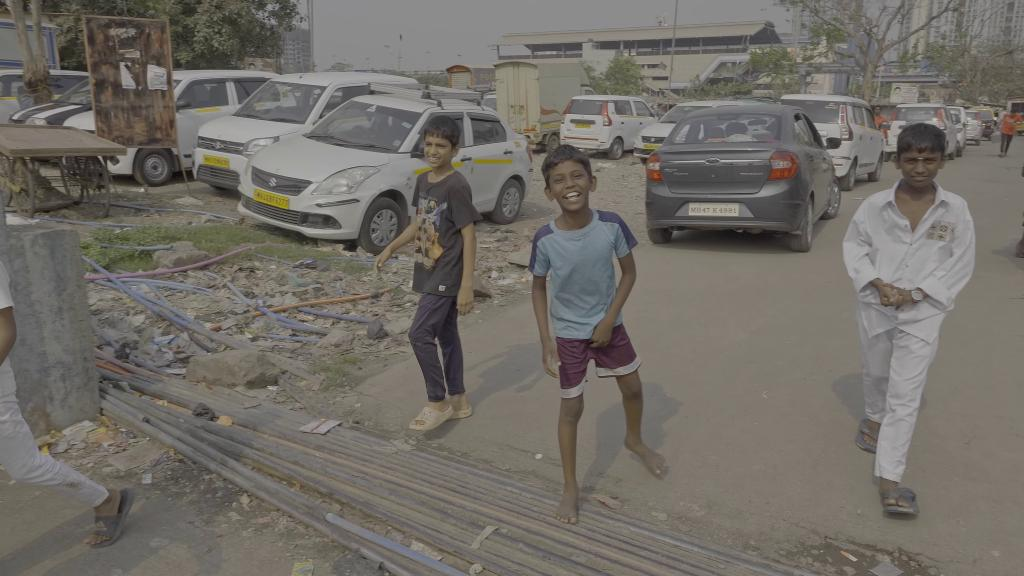garbage: (303, 410, 341, 446)
